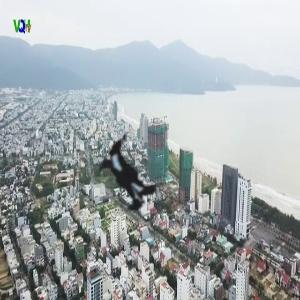drone: (23, 72, 238, 287)
